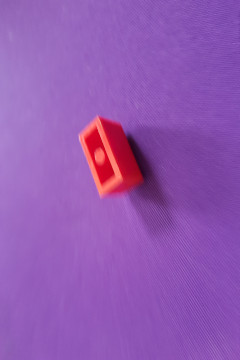1x2 red: (74, 116, 146, 200)
